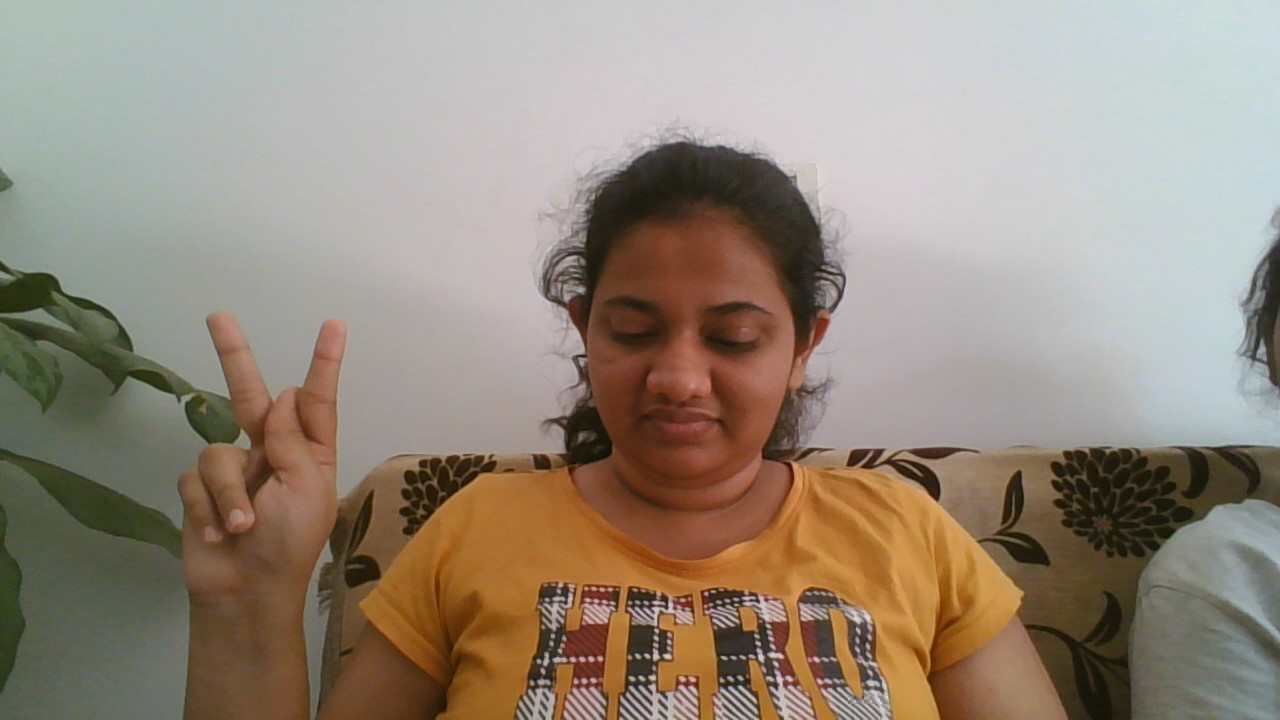k: (152, 306, 365, 619)
